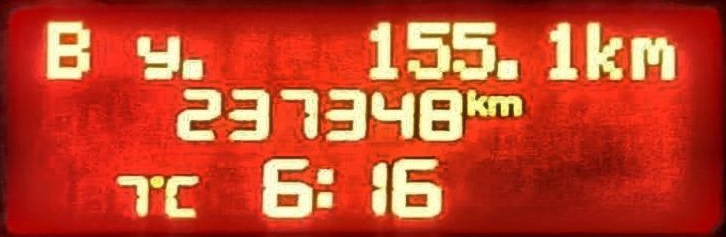-: (178, 57, 205, 80), (494, 57, 519, 80)
1: (366, 19, 399, 80), (545, 20, 577, 81), (368, 160, 389, 217)
2: (173, 86, 222, 140)
3: (320, 88, 368, 141), (224, 88, 271, 141)
4: (367, 90, 417, 139)
5: (448, 20, 495, 80), (404, 20, 450, 80)
6: (257, 156, 314, 219), (388, 156, 444, 218)
7: (277, 88, 319, 139), (113, 174, 150, 217)
8: (415, 88, 464, 141)
X: (42, 19, 92, 81), (582, 20, 623, 81), (628, 35, 677, 80), (134, 34, 180, 79), (161, 173, 200, 217), (314, 166, 335, 207), (488, 94, 523, 116), (464, 88, 487, 117)
